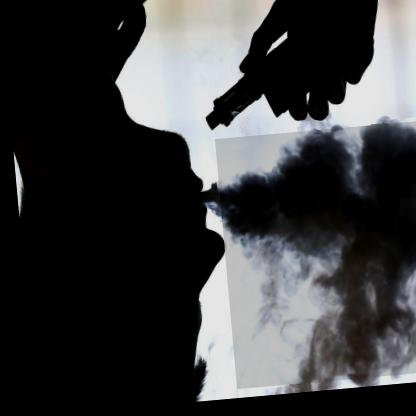smoke: (212, 128, 416, 393)
